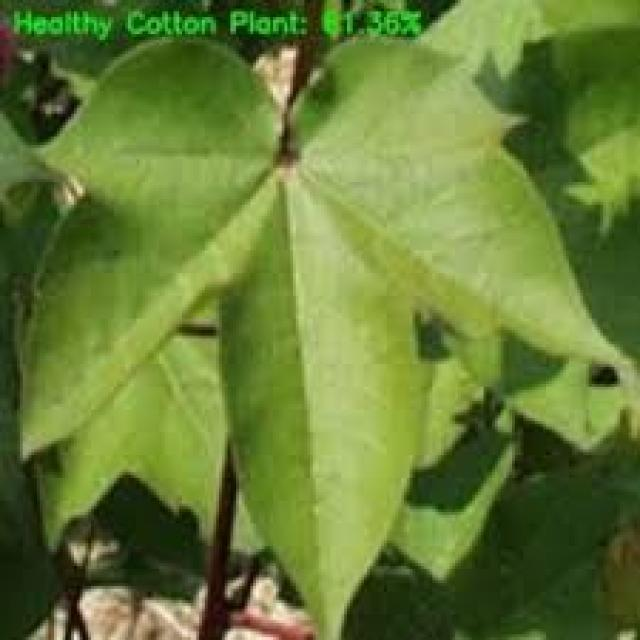Healthy Leaf: (28, 101, 626, 640)
